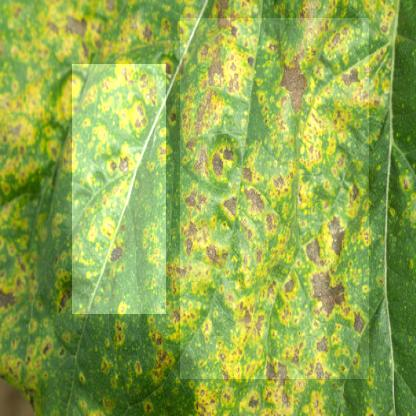black-spot: (180, 18, 369, 379), (72, 64, 166, 314)
